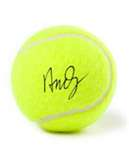tennis ball: (10, 25, 116, 133)
